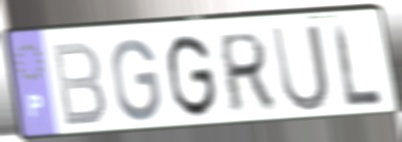B: (48, 39, 109, 130)
G: (165, 32, 220, 121), (109, 36, 164, 124)
L: (330, 20, 386, 110)
R: (218, 29, 277, 116)
U: (269, 21, 333, 115)
